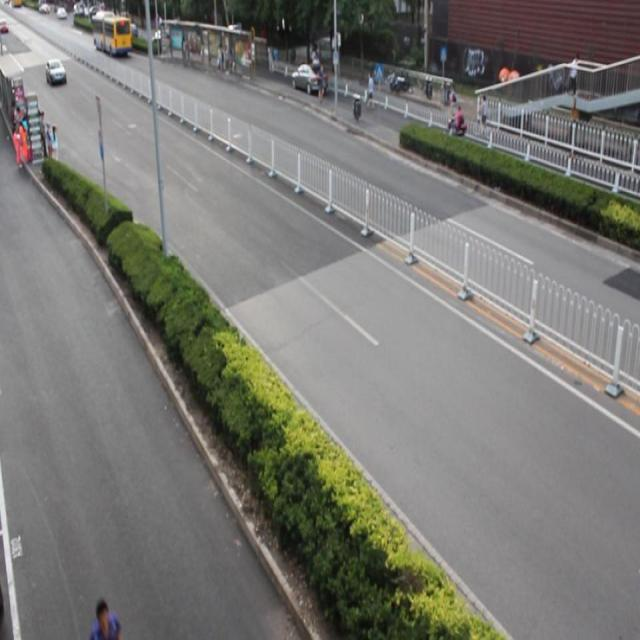car: (291, 61, 329, 94)
